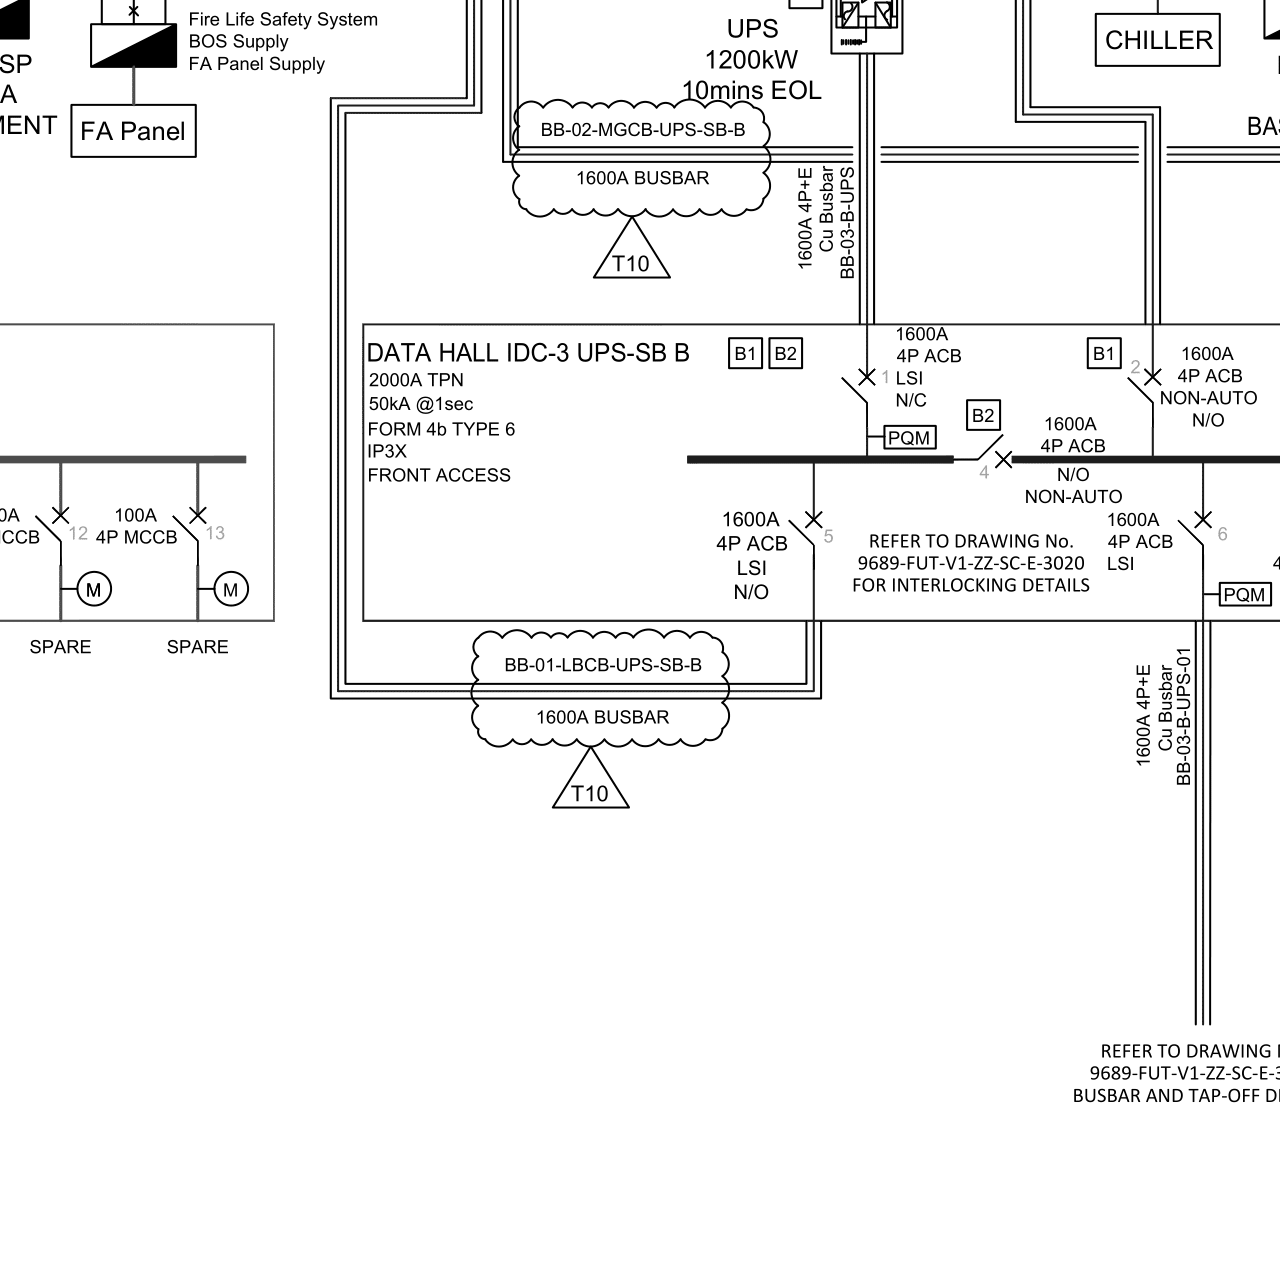Chiller: (1084, 5, 1233, 82)
